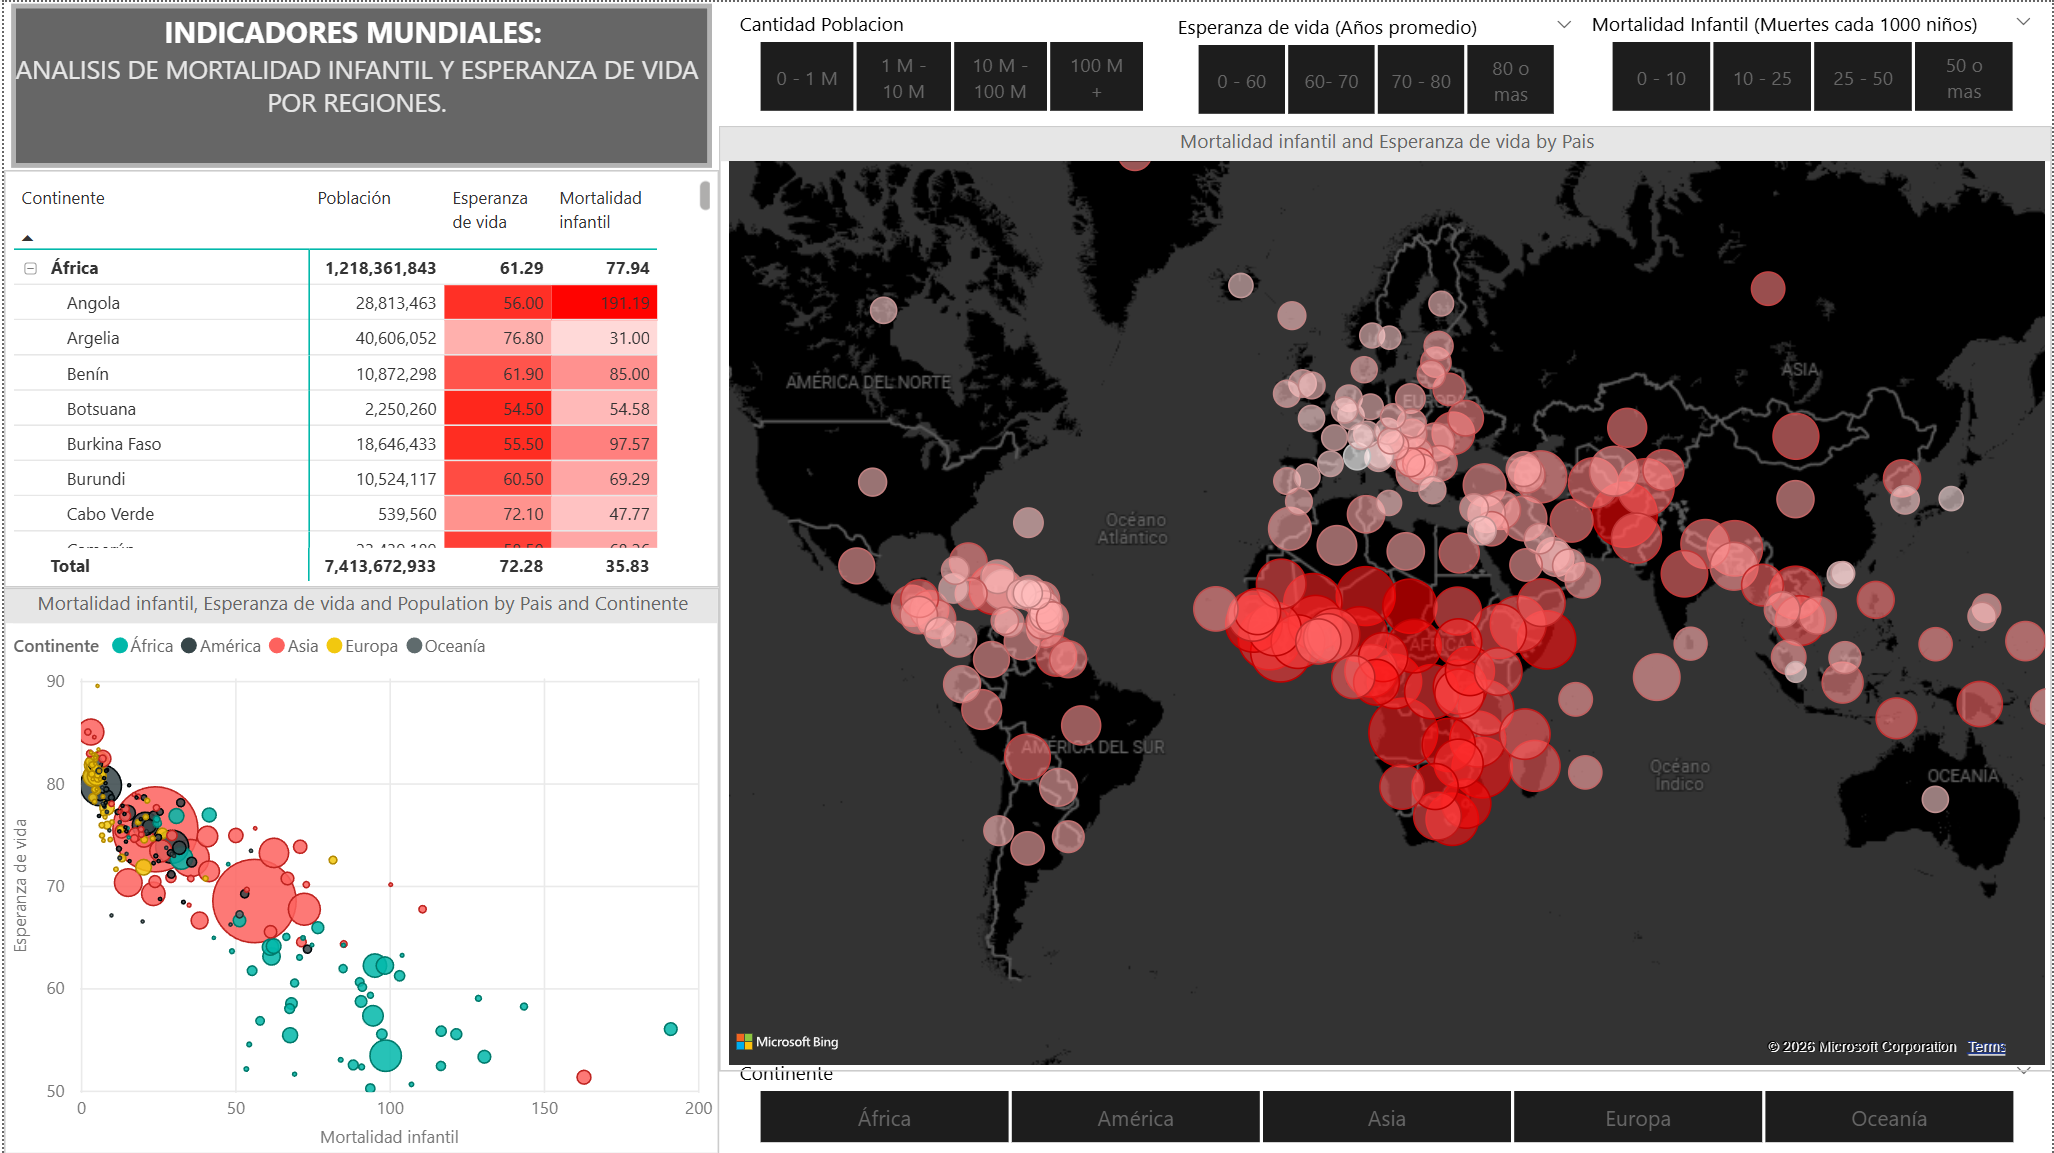

Layout of this report page (visuals, bound fields, positions):
{"tool":"powerbi","page":{"name":"Indicadores mundiales","canvas":[1280,720],"ordinal":1},"visuals":[{"type":"pivotTable","fields":{"Rows":["Paises.Continente","Paises.Pais"],"Values":["Sum(Population.Population)","Avg(Esperanza de vida.Esperanza de vida)","Avg(Mortalidad infantil.Mortalidad infantil)"]},"box":[0,104.8,446.7,261.4],"z":0},{"type":"slicer","fields":{"Values":["Population.Cantidad Poblacion"]},"box":[447,0,289.2,75.3],"z":1000},{"type":"slicer","fields":{"Values":["Esperanza de vida.Esperanza de vida (Años promedio)"]},"box":[720.5,2,272.2,75.3],"z":2000},{"type":"slicer","fields":{"Values":["Mortalidad infantil.Mortalidad Infantil (Muertes cada 1000 niños)"]},"box":[979.6,0,300.4,75.3],"z":3000},{"type":"slicer","fields":{"Values":["Paises.Continente"]},"box":[447,655.7,833,64.1],"z":4000},{"type":"map","fields":{"Category":["Paises.Pais"],"Size":["Sum(Mortalidad infantil.Mortalidad infantil)"]},"box":[446.7,77.3,833.3,590.7],"z":5000},{"type":"scatterChart","fields":{"Category":["Paises.Pais"],"X":["Sum(Mortalidad infantil.Mortalidad infantil)"],"Y":["Sum(Esperanza de vida.Esperanza de vida)"],"Size":["Sum(Population.Population)"],"Series":["Paises.Continente"]},"box":[0,366.2,446.7,353.8],"z":6000},{"type":"basicShape","box":[0,0,447,104.7],"z":7000},{"type":"textbox","box":[0,2,441.1,90.3],"z":8000}]}

Visuals, with their boxes in screenshot pixels (x1, y1, x2, y2), scaled from the page's 1280x720 canvas onto the 2054x1153 screenshot:
pivotTable - Paises.Continente x Paises.Pais: [0,168,717,586]
slicer - Population.Cantidad Poblacion: [717,0,1181,121]
slicer - Esperanza de vida.Esperanza de vida (Años promedio): [1156,3,1593,124]
slicer - Mortalidad infantil.Mortalidad Infantil (Muertes cada 1000 niños): [1572,0,2053,121]
slicer - Paises.Continente: [717,1050,2053,1152]
map - Paises.Pais x Sum(Mortalidad infantil.Mortalidad infantil): [717,124,2053,1070]
scatterChart - Paises.Pais x Sum(Mortalidad infantil.Mortalidad infantil): [0,586,717,1152]
basicShape: [0,0,717,168]
textbox: [0,3,708,148]
